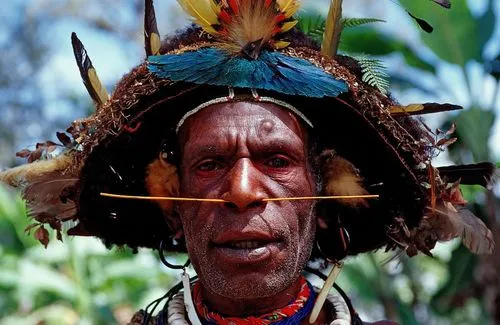withoutmask: (140, 76, 360, 309)
